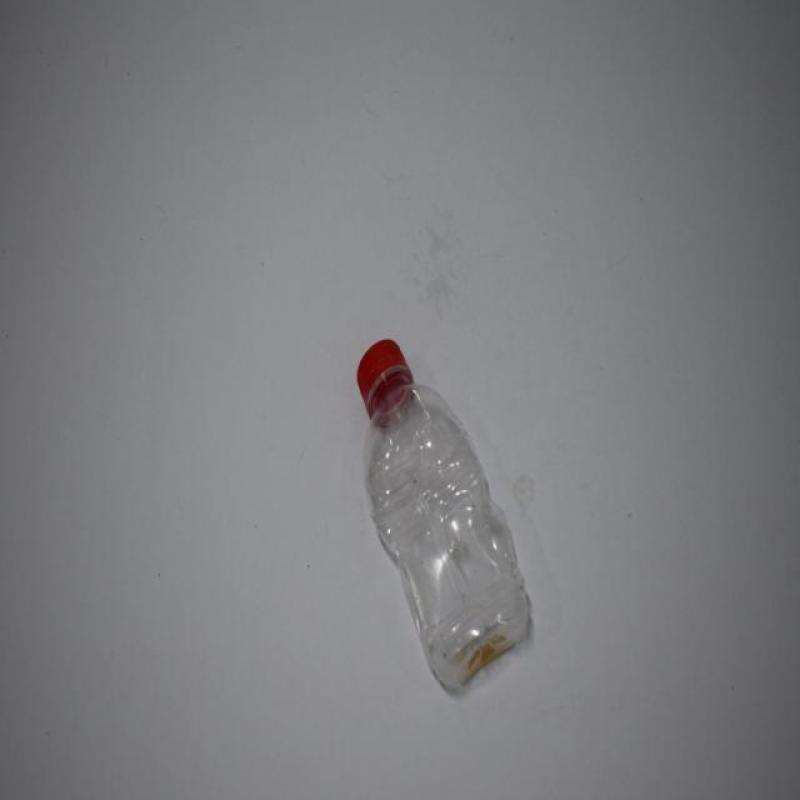botella: (357, 338, 532, 694)
